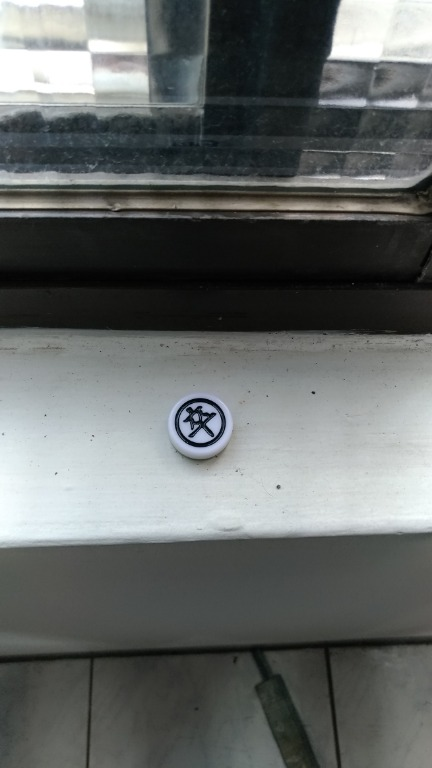b-pawn: (161, 384, 254, 477)
